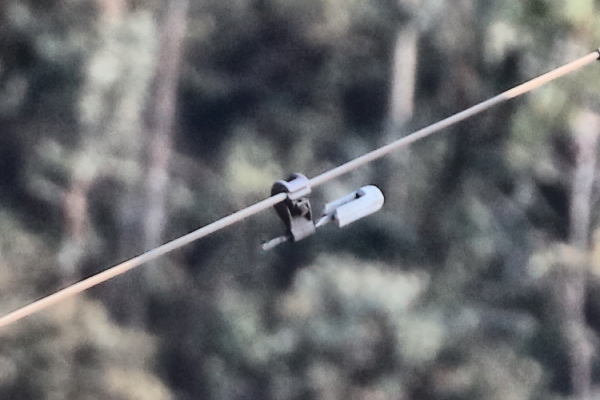damper_defect: (251, 170, 387, 256)
